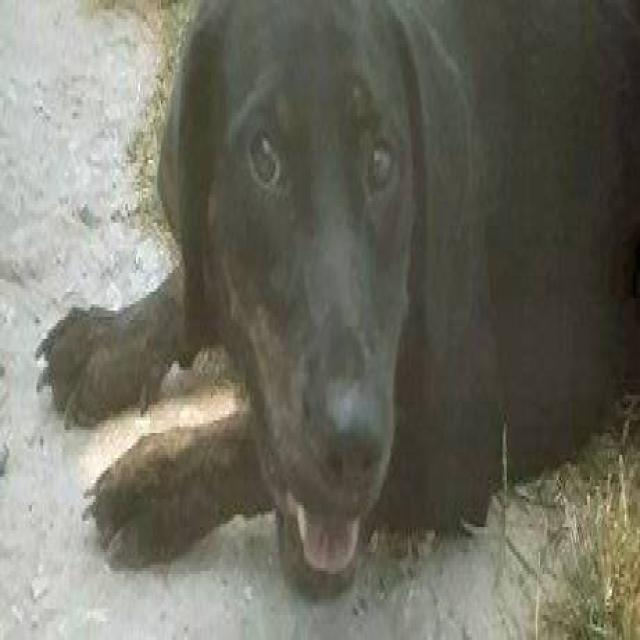dog: (34, 0, 638, 599)
